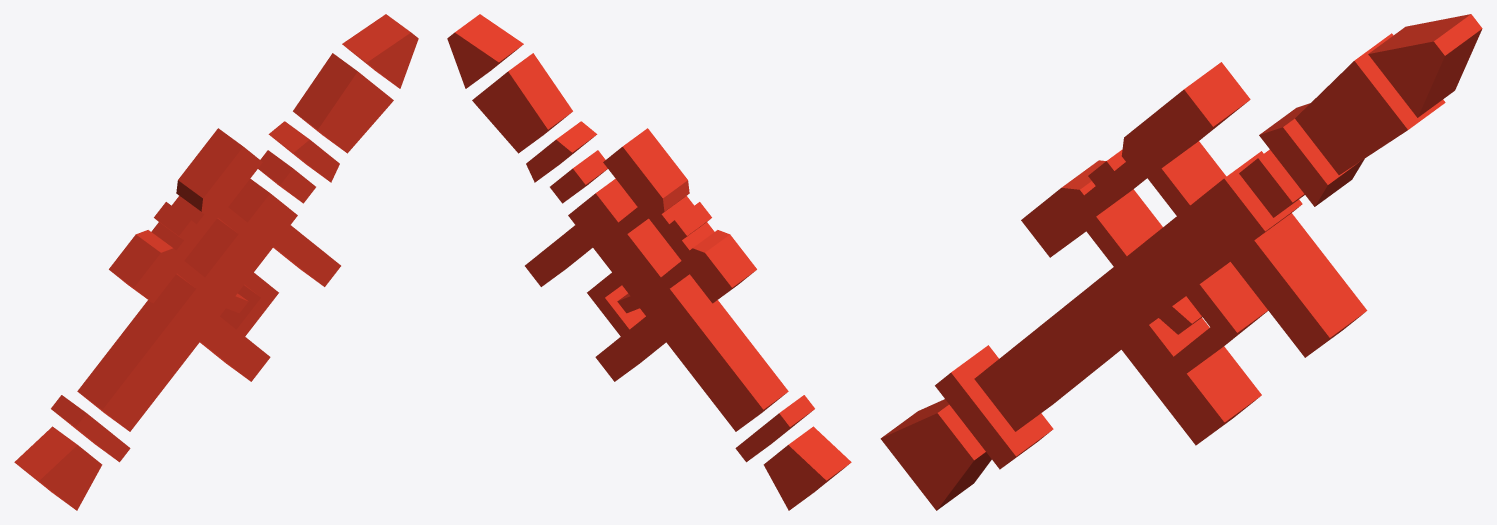
Rendered from Icon_Bazooka.fbx.
3 views of the same model, side by side, from view 1: azimuth 30°, elevation 25°; view 2: azimuth 150°, elevation 25°; view 3: azimuth 330°, elevation 25° (orthographic). The views are drawn at different scales.
Visible parts, largest first — view 1: Icon_Bazooka; view 2: Icon_Bazooka; view 3: Icon_Bazooka.
Part boxes in pixels (x1,y1,x2,y2): Icon_Bazooka: (14,14,418,510); Icon_Bazooka: (447,14,851,510); Icon_Bazooka: (880,14,1482,510).
Bounding box in the file's own units: 85.72 × 85.72 × 9.87.
